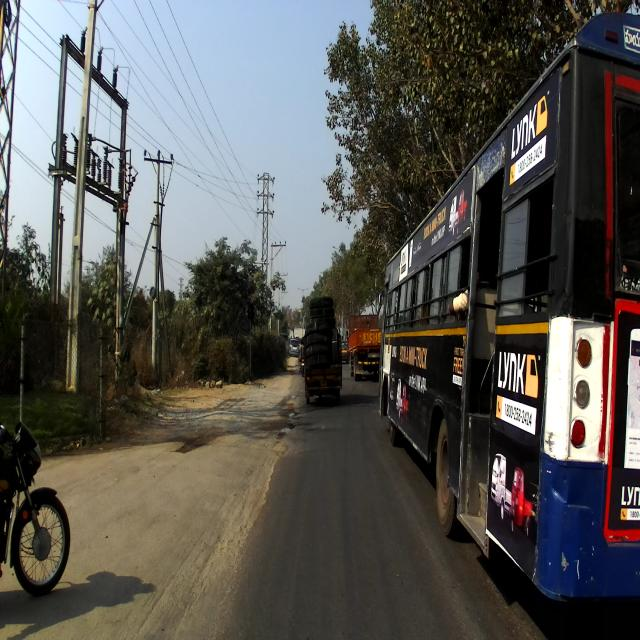auto ahead at: (296, 289, 348, 402)
bus ahead at: (377, 0, 639, 598)
electric pole ahead at: (61, 0, 98, 416)
motorcycle ahead at: (0, 416, 72, 611)
